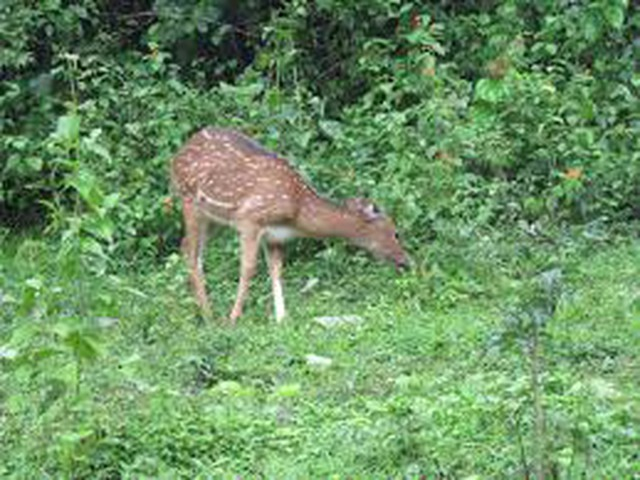deer: (163, 122, 412, 323)
